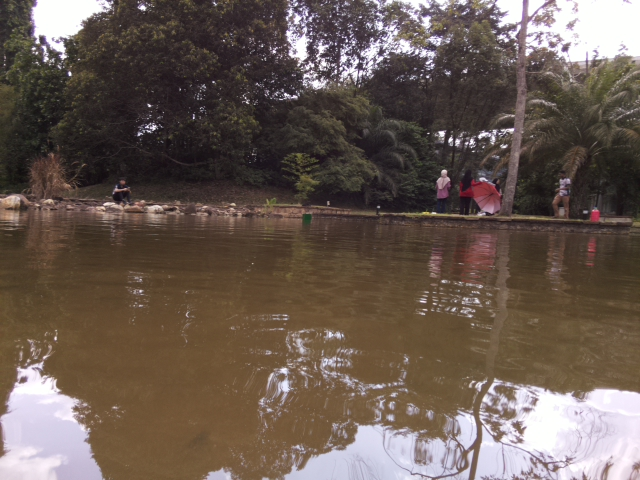obstacle: (301, 213, 312, 224)
